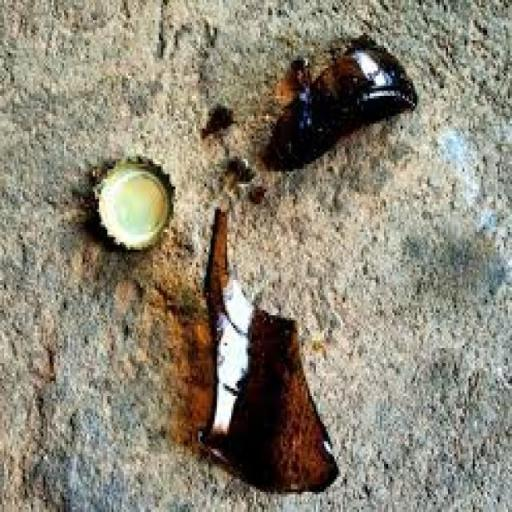glass: (187, 210, 347, 502), (264, 38, 416, 172)
